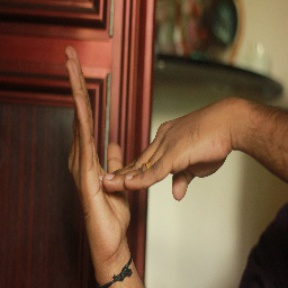Z: (53, 42, 229, 253)
